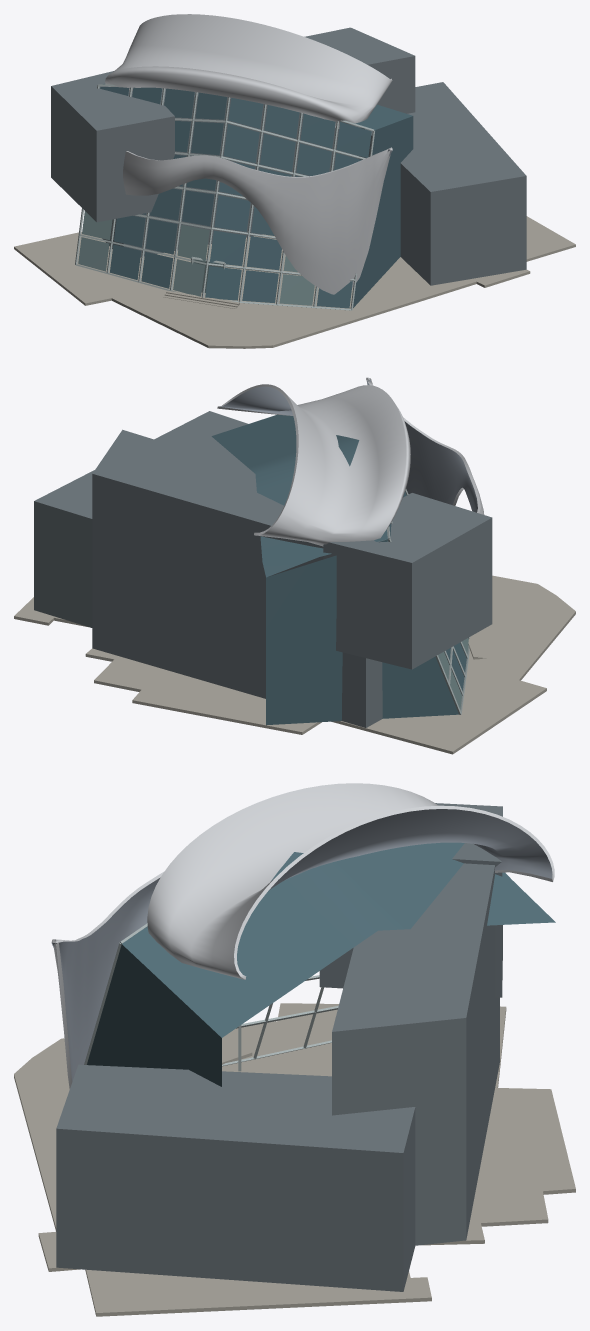
The model's file is art-gallery-of-alberta-far.glb.
The picture shows the model from 3 angles, top to bottom: view 1: azimuth 30°, elevation 25°; view 2: azimuth 150°, elevation 25°; view 3: azimuth 270°, elevation 25°; orthographic projection. The views are drawn at different scales.
Parts seen in each view (by area): view 1: art-gallery-of-alberta-0-zinc, art-gallery-of-alberta-0-steel, art-gallery-of-alberta-0-glass, art-gallery-of-alberta-0-stone, art-gallery-of-alberta-0-frame, art-gallery-of-alberta-0-glow; view 2: art-gallery-of-alberta-0-zinc, art-gallery-of-alberta-0-glass, art-gallery-of-alberta-0-stone, art-gallery-of-alberta-0-steel, art-gallery-of-alberta-0-steelUnder, art-gallery-of-alberta-0-frame; view 3: art-gallery-of-alberta-0-zinc, art-gallery-of-alberta-0-glass, art-gallery-of-alberta-0-stone, art-gallery-of-alberta-0-steel, art-gallery-of-alberta-0-steelUnder, art-gallery-of-alberta-0-frame.
Boxes of the visible parts, x1,y1,x2,y2 form: art-gallery-of-alberta-0-zinc: (51,27,526,285); art-gallery-of-alberta-0-steel: (105,14,392,294); art-gallery-of-alberta-0-glass: (100,84,413,308); art-gallery-of-alberta-0-stone: (14,216,575,348); art-gallery-of-alberta-0-frame: (75,84,374,310); art-gallery-of-alberta-0-glow: (78,211,314,305); art-gallery-of-alberta-0-zinc: (34,411,492,727); art-gallery-of-alberta-0-glass: (211,414,466,725); art-gallery-of-alberta-0-stone: (14,575,575,754); art-gallery-of-alberta-0-steel: (217,377,484,546); art-gallery-of-alberta-0-steelUnder: (220,380,477,512); art-gallery-of-alberta-0-frame: (387,489,470,714); art-gallery-of-alberta-0-zinc: (56,803,502,1291); art-gallery-of-alberta-0-glass: (87,842,555,1086); art-gallery-of-alberta-0-stone: (14,1003,575,1316); art-gallery-of-alberta-0-steel: (51,783,554,1088); art-gallery-of-alberta-0-steelUnder: (51,809,552,1081); art-gallery-of-alberta-0-frame: (84,923,338,1071).
Size of the model in its own units: 63.62 by 31 by 48.75.
